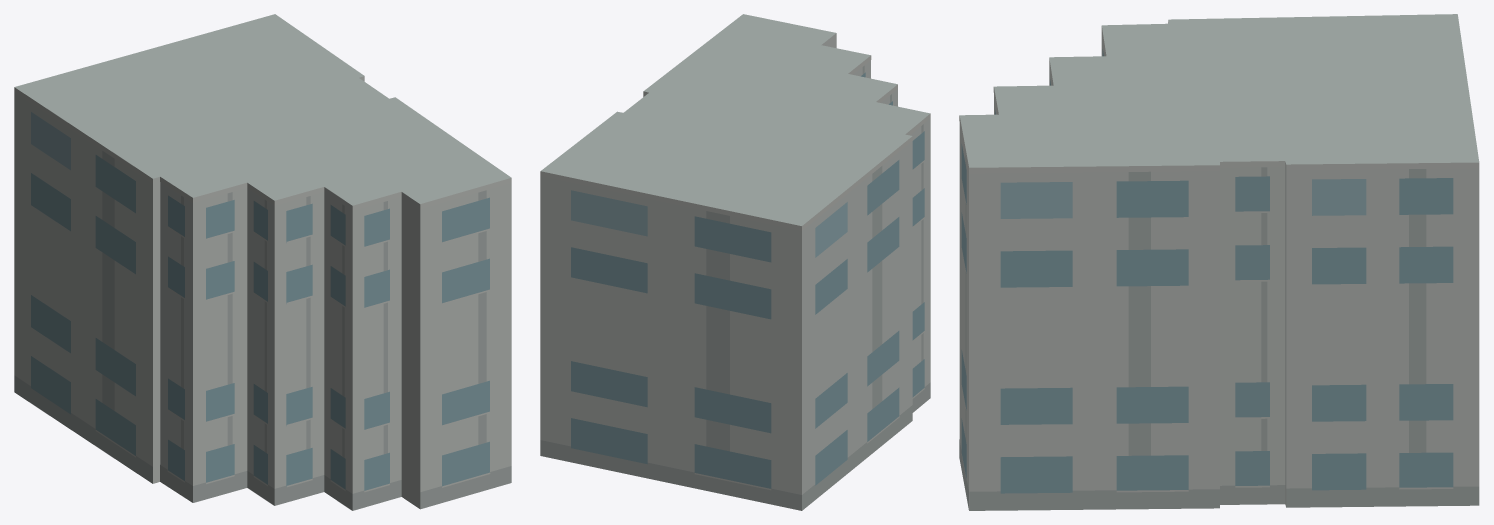
File: survey-upis-32940080.glb
3 renders of one model, left to right at view 1: azimuth 30°, elevation 25°; view 2: azimuth 150°, elevation 25°; view 3: azimuth 270°, elevation 25°, orthographic. The views are drawn at different scales.
Visible parts, largest first — view 1: survey-upis-32940080.tmp; view 2: survey-upis-32940080.tmp; view 3: survey-upis-32940080.tmp.
Boxes of the visible parts, x1=… form: survey-upis-32940080.tmp: x1=14, y1=14, x2=511, y2=510; survey-upis-32940080.tmp: x1=540, y1=14, x2=930, y2=510; survey-upis-32940080.tmp: x1=959, y1=14, x2=1479, y2=510.
Size of the model in its own units: 13.66 by 14.2 by 19.51.
